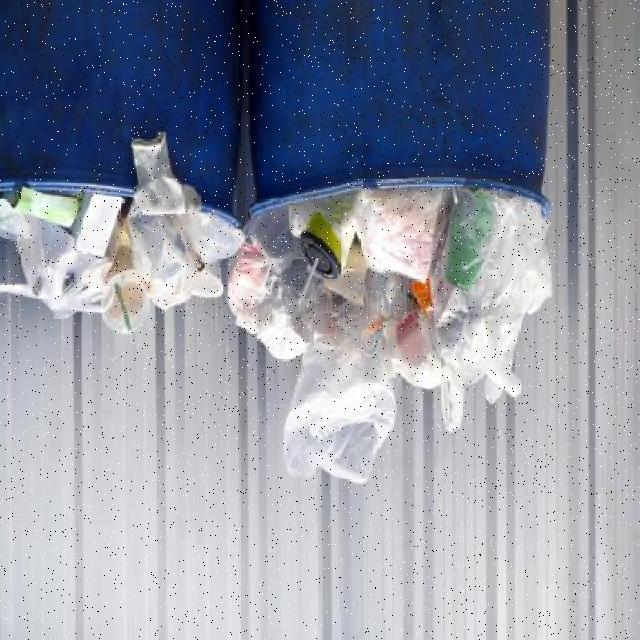garbage container: (248, 2, 562, 230), (2, 2, 247, 241)
